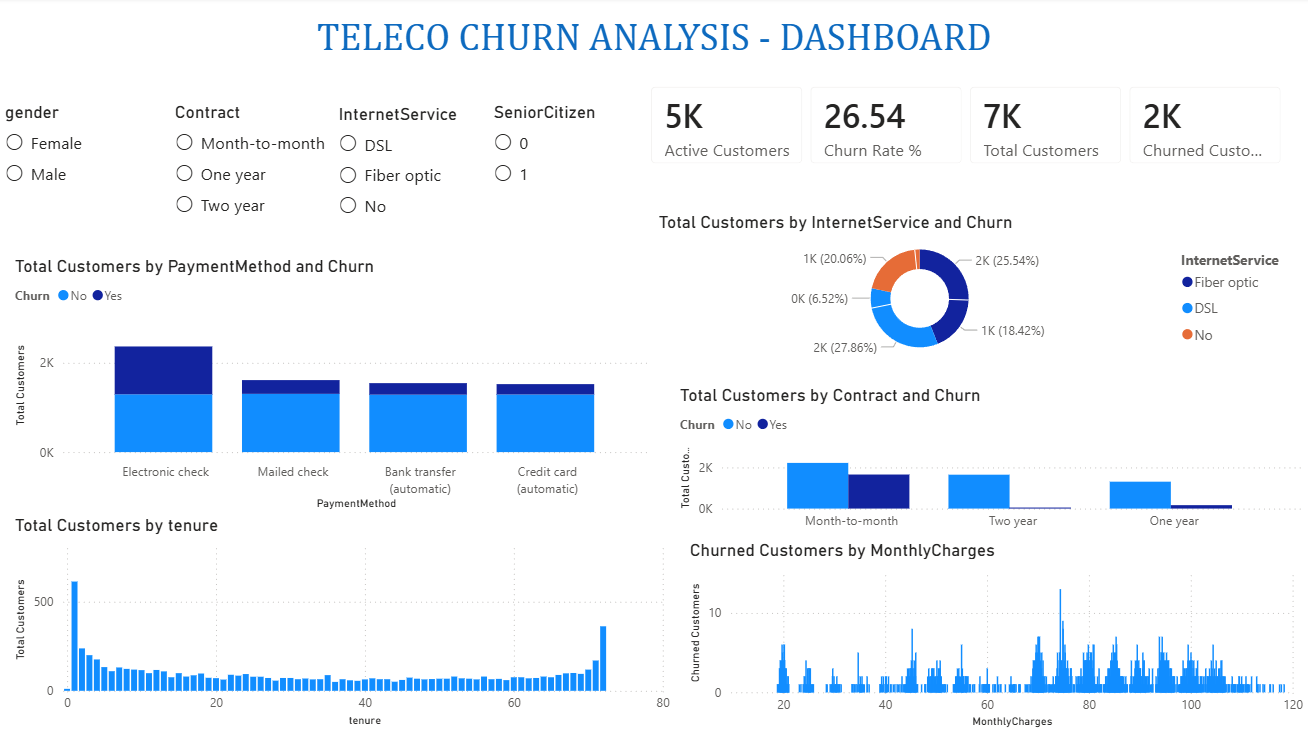

The dashboard page shown, as its layout file describes it:
{"tool":"powerbi","page":{"name":"Page 1","canvas":[1280,720],"ordinal":0},"visuals":[{"type":"cardVisual","fields":{"Data":["WA_Fn-UseC_-Telco-Customer-Churn.Active Customers","WA_Fn-UseC_-Telco-Customer-Churn.Churn Rate %","WA_Fn-UseC_-Telco-Customer-Churn.Total Customers","WA_Fn-UseC_-Telco-Customer-Churn.Churned Customers"]},"box":[619.8,70.4,651,109.6],"z":0},{"type":"columnChart","fields":{"Category":["WA_Fn-UseC_-Telco-Customer-Churn.PaymentMethod"],"Y":["WA_Fn-UseC_-Telco-Customer-Churn.Total Customers"],"Series":["WA_Fn-UseC_-Telco-Customer-Churn.Churn"]},"box":[9.5,253.1,630.7,253.1],"z":1000},{"type":"columnChart","fields":{"Category":["WA_Fn-UseC_-Telco-Customer-Churn.tenure"],"Y":["WA_Fn-UseC_-Telco-Customer-Churn.Total Customers"]},"box":[9.5,506.2,651,212.5],"z":2000},{"type":"donutChart","fields":{"Category":["WA_Fn-UseC_-Telco-Customer-Churn.InternetService"],"Y":["WA_Fn-UseC_-Telco-Customer-Churn.Total Customers"],"Series":["WA_Fn-UseC_-Telco-Customer-Churn.Churn"]},"box":[640.1,209.8,630.7,150.2],"z":3000},{"type":"clusteredColumnChart","fields":{"Category":["WA_Fn-UseC_-Telco-Customer-Churn.Contract"],"Y":["WA_Fn-UseC_-Telco-Customer-Churn.Total Customers"],"Series":["WA_Fn-UseC_-Telco-Customer-Churn.Churn"]},"box":[660.4,378.9,619.8,151.6],"z":4000},{"type":"columnChart","fields":{"Category":["WA_Fn-UseC_-Telco-Customer-Churn.MonthlyCharges"],"Y":["WA_Fn-UseC_-Telco-Customer-Churn.Churned Customers"]},"box":[669.9,530.5,610.4,189.5],"z":5000},{"type":"listSlicer","fields":{"Values":["WA_Fn-UseC_-Telco-Customer-Churn.gender"]},"box":[0,102.9,166.5,148.9],"z":6000},{"type":"listSlicer","fields":{"Values":["WA_Fn-UseC_-Telco-Customer-Churn.Contract"]},"box":[166.5,102.9,159.7,154.3],"z":7000},{"type":"listSlicer","fields":{"Values":["WA_Fn-UseC_-Telco-Customer-Churn.InternetService"]},"box":[326.2,104.2,151.6,150.2],"z":8000},{"type":"listSlicer","fields":{"Values":["WA_Fn-UseC_-Telco-Customer-Churn.SeniorCitizen"]},"box":[477.7,102.9,152.9,150.2],"z":9000},{"type":"textbox","box":[0,14.9,1280.3,55.5],"z":10000}]}

Visuals, with their boxes in screenshot pixels (x1, y1, x2, y2), scaled from the page's 1280x720 canvas onto the 1308x730 screenshot:
cardVisual - WA_Fn-UseC_-Telco-Customer-Churn.Active Customers x WA_Fn-UseC_-Telco-Customer-Churn.Churn Rate %: x1=633 y1=71 x2=1299 y2=182
columnChart - WA_Fn-UseC_-Telco-Customer-Churn.PaymentMethod x WA_Fn-UseC_-Telco-Customer-Churn.Total Customers: x1=10 y1=257 x2=654 y2=513
columnChart - WA_Fn-UseC_-Telco-Customer-Churn.tenure x WA_Fn-UseC_-Telco-Customer-Churn.Total Customers: x1=10 y1=513 x2=675 y2=729
donutChart - WA_Fn-UseC_-Telco-Customer-Churn.InternetService x WA_Fn-UseC_-Telco-Customer-Churn.Total Customers: x1=654 y1=213 x2=1299 y2=365
clusteredColumnChart - WA_Fn-UseC_-Telco-Customer-Churn.Contract x WA_Fn-UseC_-Telco-Customer-Churn.Total Customers: x1=675 y1=384 x2=1307 y2=538
columnChart - WA_Fn-UseC_-Telco-Customer-Churn.MonthlyCharges x WA_Fn-UseC_-Telco-Customer-Churn.Churned Customers: x1=685 y1=538 x2=1307 y2=729
listSlicer - WA_Fn-UseC_-Telco-Customer-Churn.gender: x1=0 y1=104 x2=170 y2=255
listSlicer - WA_Fn-UseC_-Telco-Customer-Churn.Contract: x1=170 y1=104 x2=333 y2=261
listSlicer - WA_Fn-UseC_-Telco-Customer-Churn.InternetService: x1=333 y1=106 x2=488 y2=258
listSlicer - WA_Fn-UseC_-Telco-Customer-Churn.SeniorCitizen: x1=488 y1=104 x2=644 y2=257
textbox: x1=0 y1=15 x2=1307 y2=71
